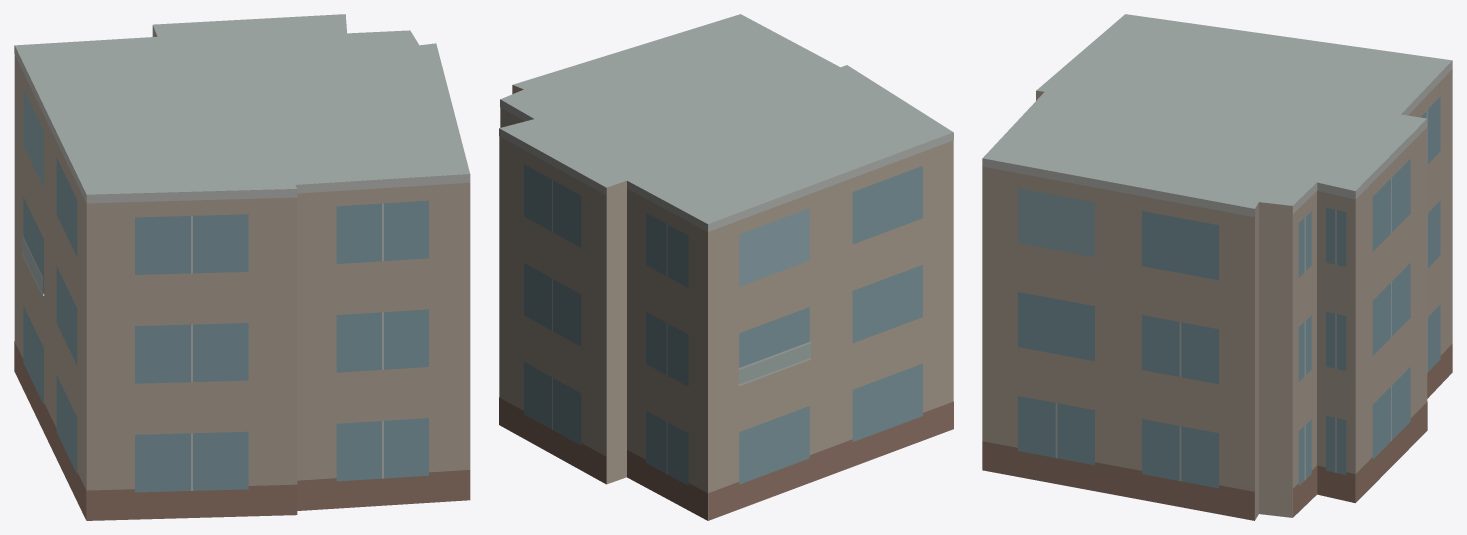
File: survey-upis-32558924.glb
3 renders of one model, left to right at view 1: azimuth 30°, elevation 25°; view 2: azimuth 150°, elevation 25°; view 3: azimuth 270°, elevation 25°, orthographic. The views are drawn at different scales.
Parts seen in each view (by area): view 1: survey-upis-32558924.tmp; view 2: survey-upis-32558924.tmp; view 3: survey-upis-32558924.tmp.
Boxes of the visible parts, x1=… form: survey-upis-32558924.tmp: x1=14, y1=14, x2=470, y2=520; survey-upis-32558924.tmp: x1=499, y1=14, x2=953, y2=520; survey-upis-32558924.tmp: x1=982, y1=14, x2=1452, y2=520.
Size of the model in its own units: 12.27 by 9.15 by 12.51.
